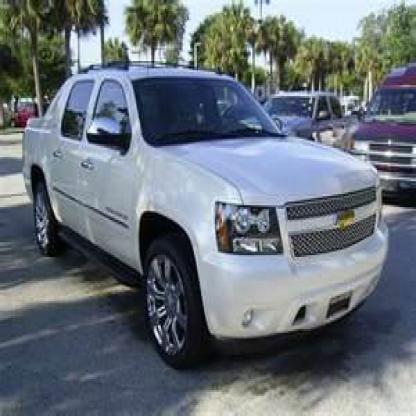Vehicle: (25, 70, 390, 376)
